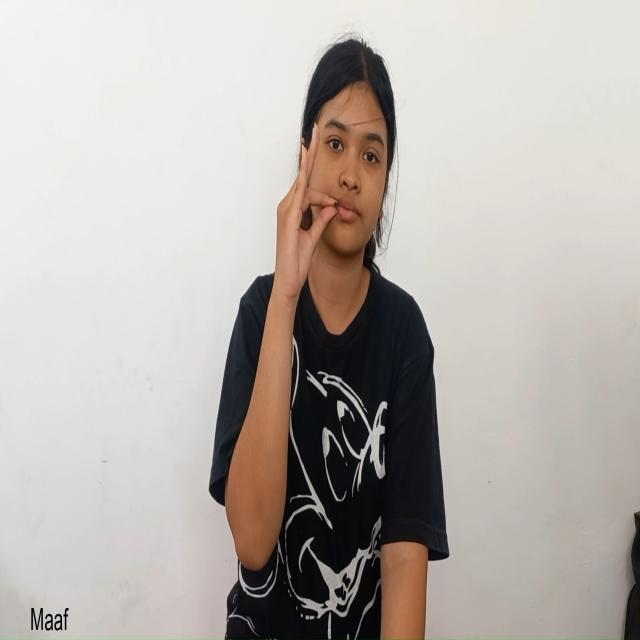Maaf -BISINDO-: (275, 37, 397, 304)
